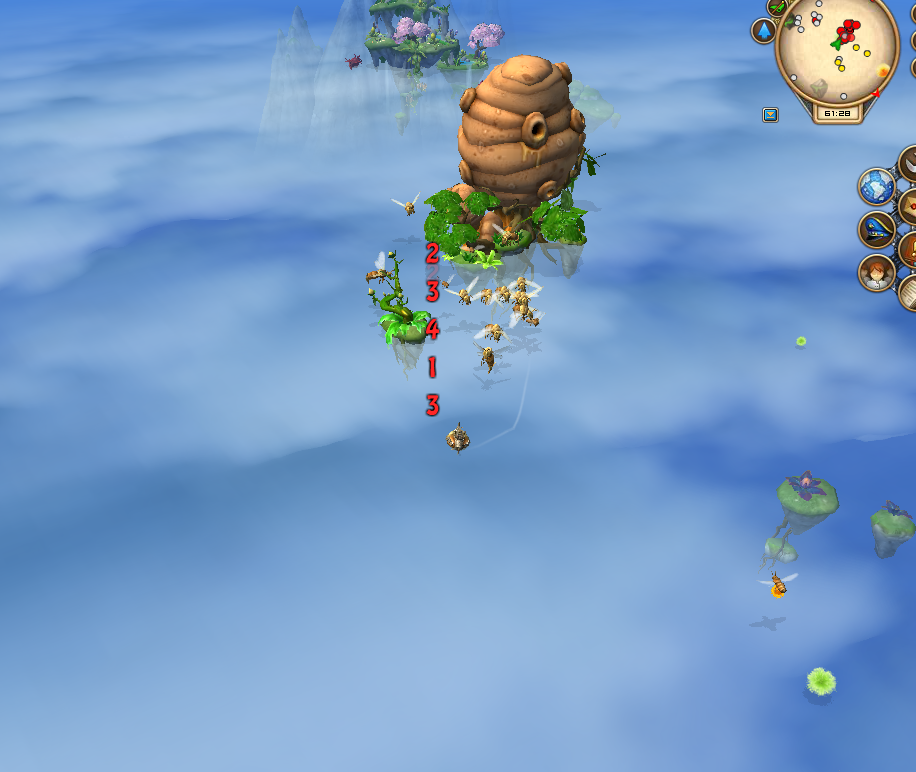dandelion-empty: (364, 247, 433, 363)
fluff: (799, 659, 841, 710), (791, 335, 811, 351)
